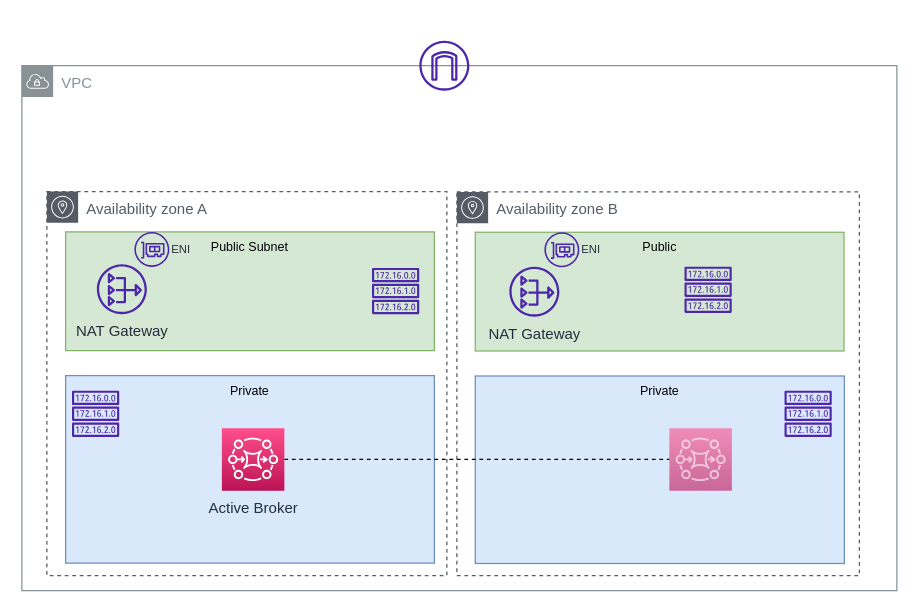
The diagram is 919 pixels wide and 613 high, and some of its shapes have lost their labels. The shapes that lost their labels are listed below. From the top down, each one's centre as x and y in pixels, then its label:
At pixel 444 65: "Internet Gateway".
At pixel 700 459: "Standby Broker".
